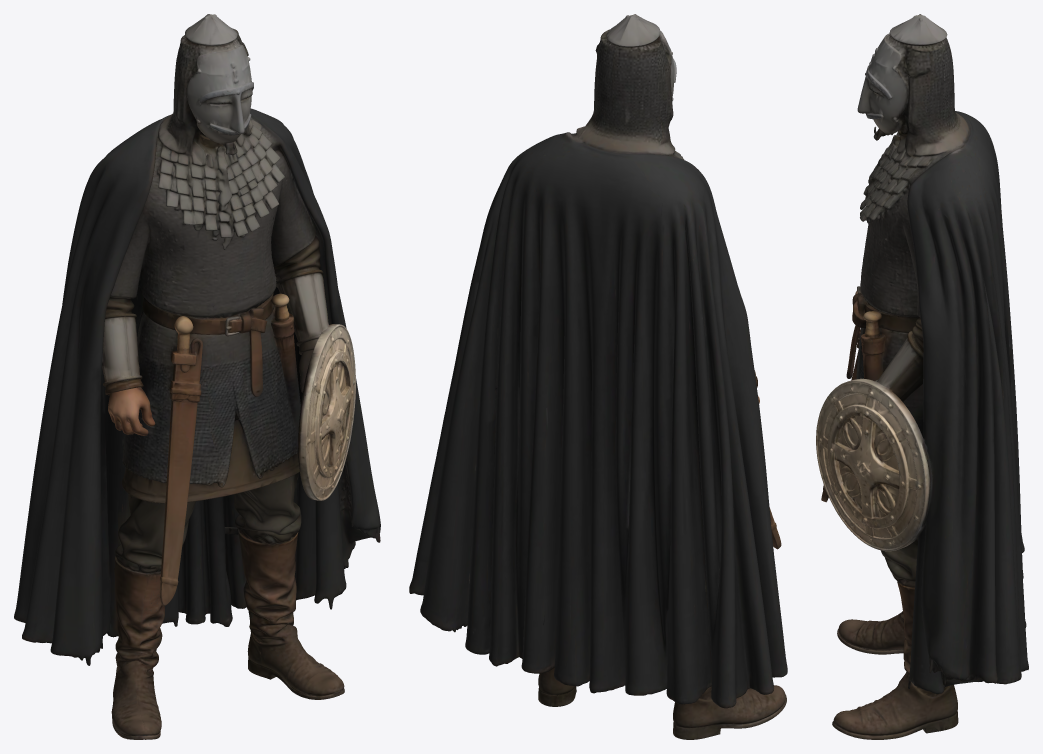
File: 002-kolchuzhno-plastinchatyy-dospeh-s-boevoy.glb
3 renders of one model, left to right at view 1: azimuth 30°, elevation 25°; view 2: azimuth 150°, elevation 25°; view 3: azimuth 270°, elevation 25°, orthographic. The views are drawn at different scales.
Parts seen in each view (by area): view 1: node_0; view 2: node_0; view 3: node_0.
Part boxes in pixels (bbox=[...]): node_0: bbox=[14, 14, 380, 739]; node_0: bbox=[409, 14, 787, 739]; node_0: bbox=[816, 14, 1028, 739].
Size of the model in its own units: 0.5983 by 1.11 by 0.3178.
Materials: 1 (1 with a texture image).
